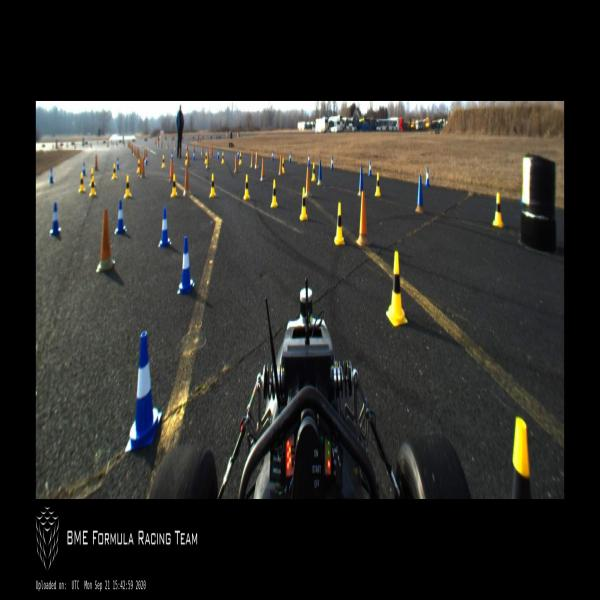blue_cone: (124, 329, 162, 451), (177, 234, 195, 295), (157, 204, 172, 247), (114, 198, 127, 235), (50, 198, 61, 236), (424, 168, 430, 188), (48, 166, 54, 183), (368, 160, 372, 178), (82, 162, 86, 176), (144, 153, 148, 166), (331, 155, 334, 170), (216, 149, 220, 160), (236, 149, 240, 160), (117, 156, 120, 170), (289, 150, 292, 164), (170, 151, 174, 161), (307, 153, 310, 166), (271, 149, 274, 162), (192, 150, 195, 162)
yellow_cone: (510, 418, 536, 497), (387, 250, 408, 325), (333, 200, 346, 245), (492, 193, 504, 227), (299, 186, 308, 221), (270, 178, 278, 209), (123, 173, 132, 199), (243, 173, 251, 200), (170, 173, 178, 199), (209, 172, 217, 196), (78, 172, 86, 193), (89, 174, 96, 198), (375, 172, 381, 196), (89, 167, 96, 186), (112, 160, 117, 180), (312, 164, 317, 183), (184, 151, 189, 166), (280, 157, 285, 172), (136, 159, 141, 173), (162, 154, 166, 169), (221, 151, 225, 165), (204, 151, 208, 165), (239, 151, 242, 164)
